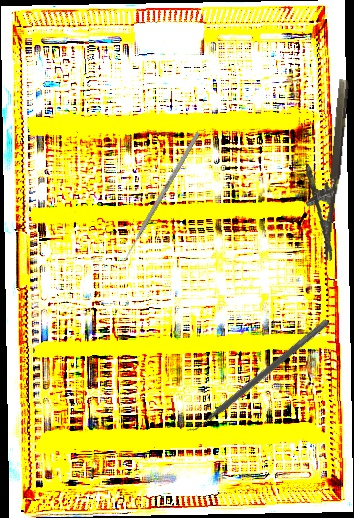Needle Holder: (296, 76, 351, 262)
Pusher: (119, 131, 201, 266)
Spatula Surgical: (184, 312, 330, 439)
